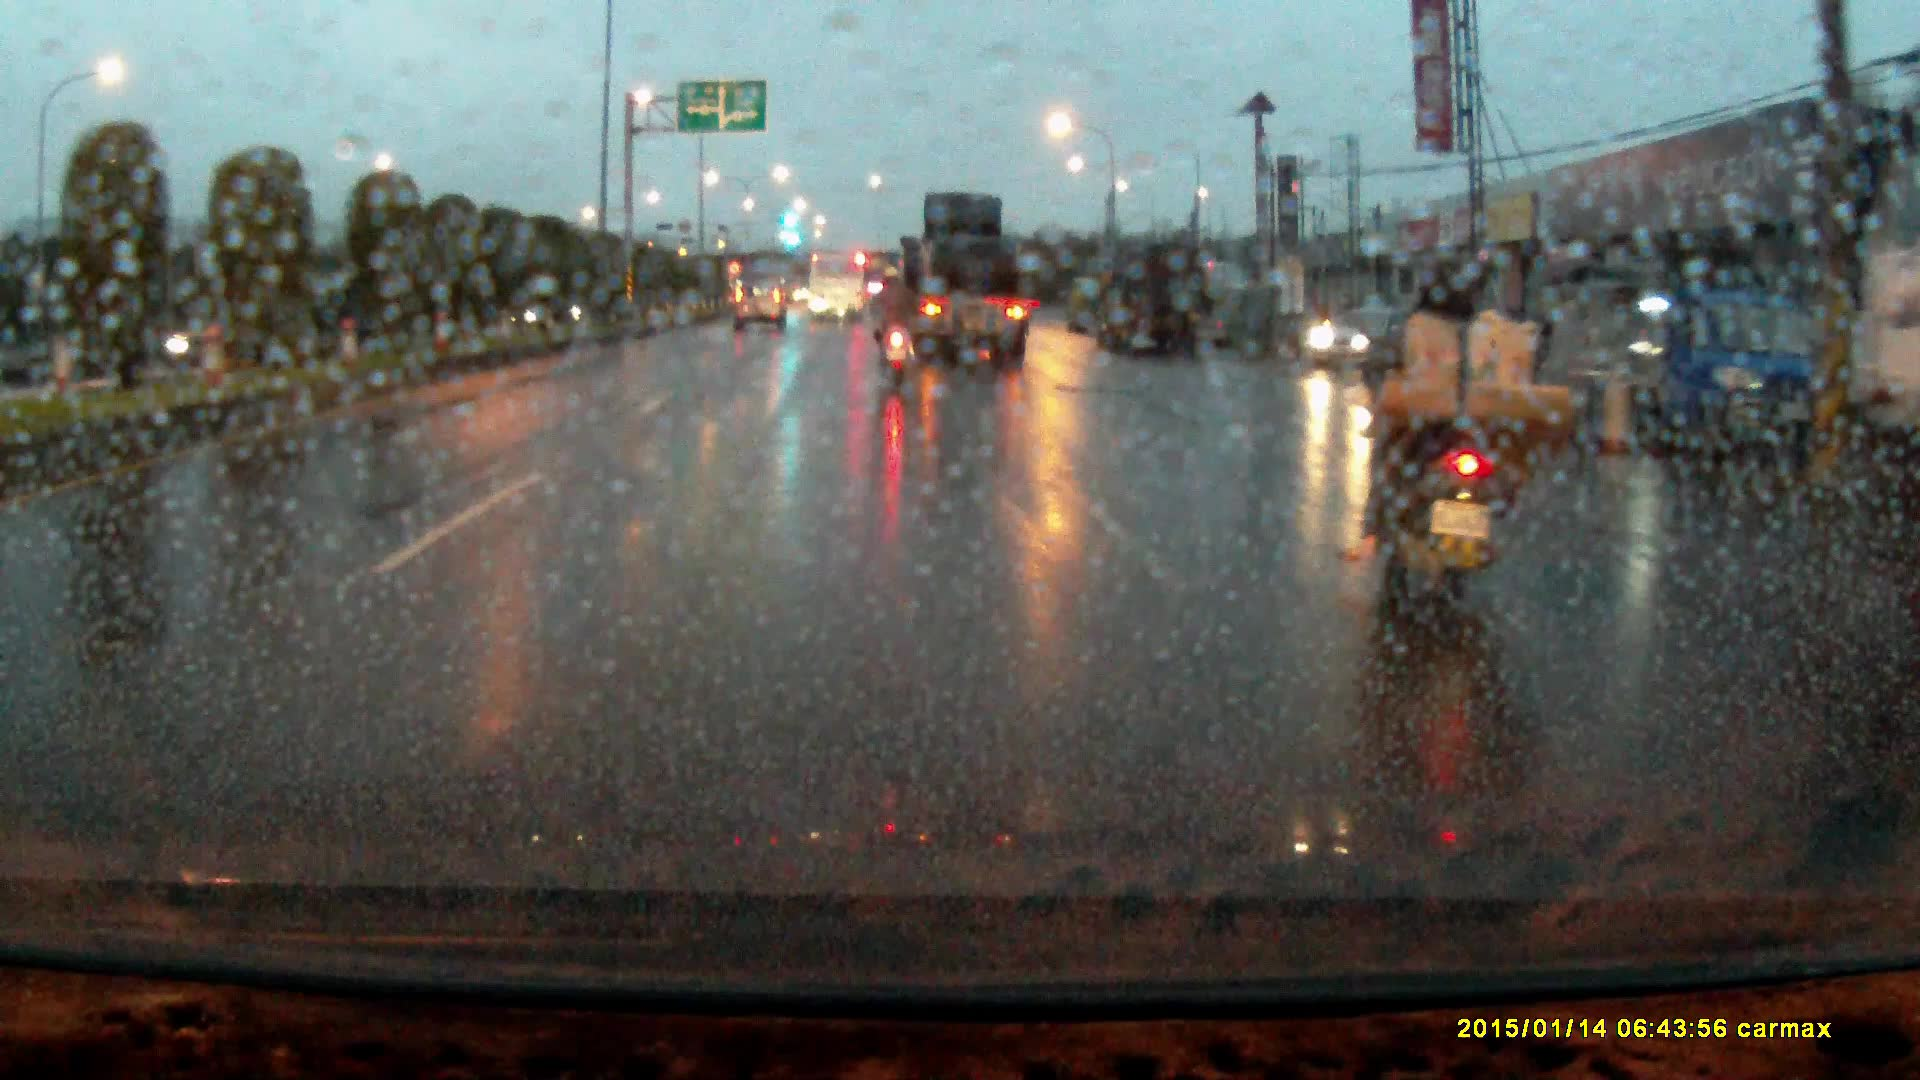rider: (1352, 251, 1586, 656), (871, 265, 924, 383)
vehicle: (1575, 286, 1817, 460), (1850, 160, 1920, 591), (886, 197, 1025, 372), (1104, 250, 1212, 366), (1306, 308, 1408, 371), (808, 252, 867, 328), (1065, 279, 1115, 338), (734, 288, 789, 338)
